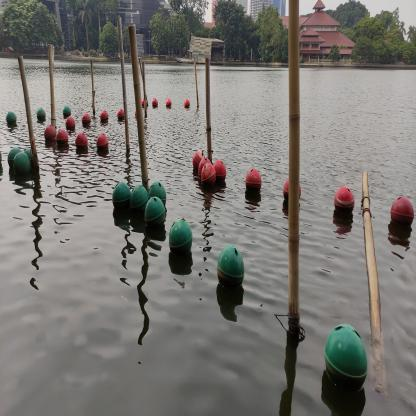green_buoy: (323, 321, 369, 397), (217, 243, 245, 296), (168, 217, 194, 262), (144, 195, 167, 232), (110, 178, 131, 214), (130, 184, 150, 216), (147, 177, 167, 208), (13, 152, 30, 178), (6, 148, 22, 171), (24, 148, 34, 170), (6, 111, 17, 128), (36, 106, 46, 120), (62, 105, 72, 118)
red_buoy: (390, 194, 415, 233), (333, 184, 355, 221), (282, 176, 302, 206), (244, 167, 262, 196), (212, 160, 227, 184), (201, 163, 216, 187), (198, 157, 212, 179), (192, 150, 206, 171), (96, 133, 109, 154), (43, 123, 56, 142), (75, 133, 88, 151), (56, 129, 69, 147), (65, 116, 76, 132), (81, 113, 92, 126), (100, 109, 110, 122), (117, 108, 125, 120), (165, 97, 172, 110), (151, 98, 158, 110), (141, 98, 148, 108), (184, 98, 190, 108), (135, 108, 136, 118)
